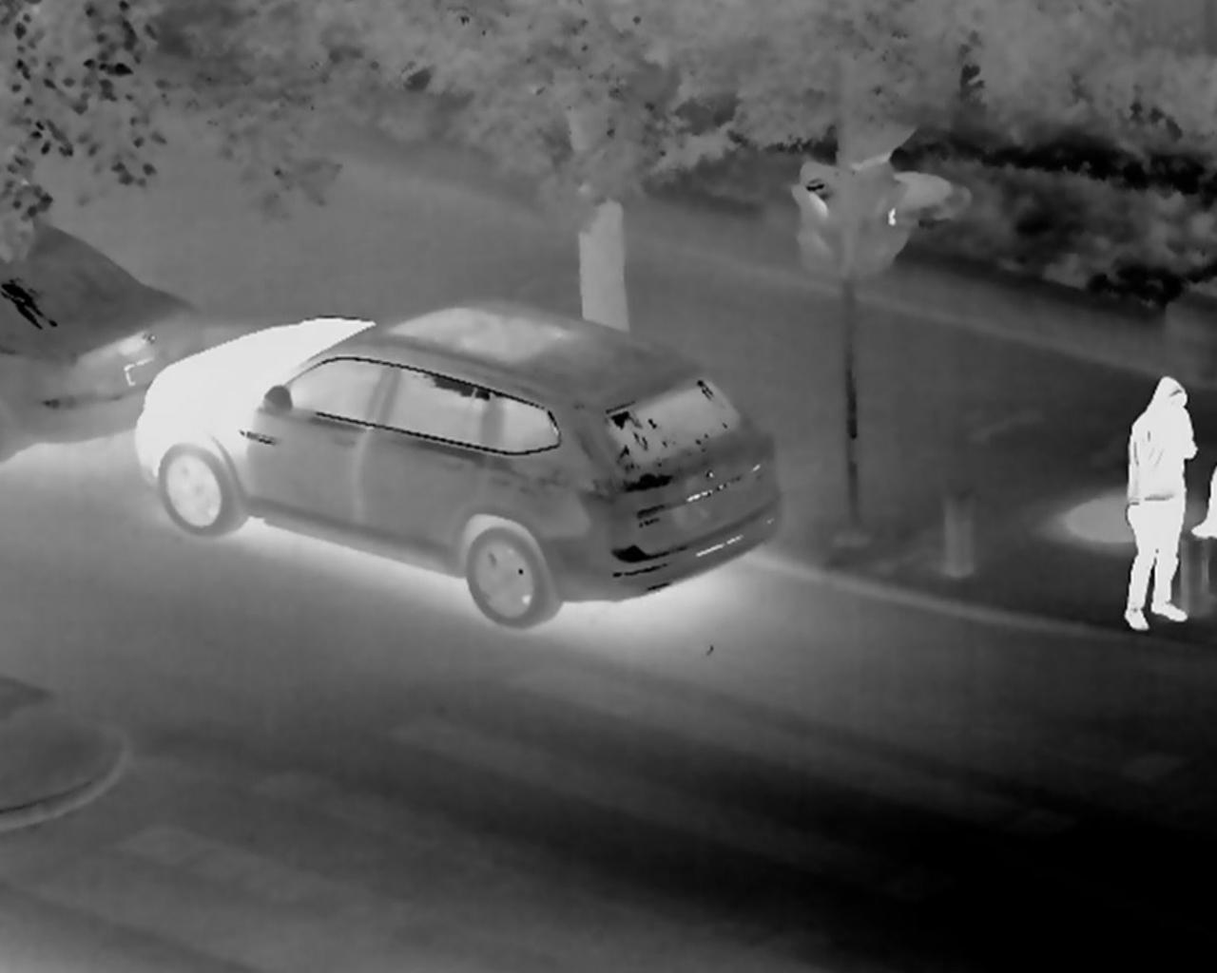person: (1117, 368, 1195, 629)
